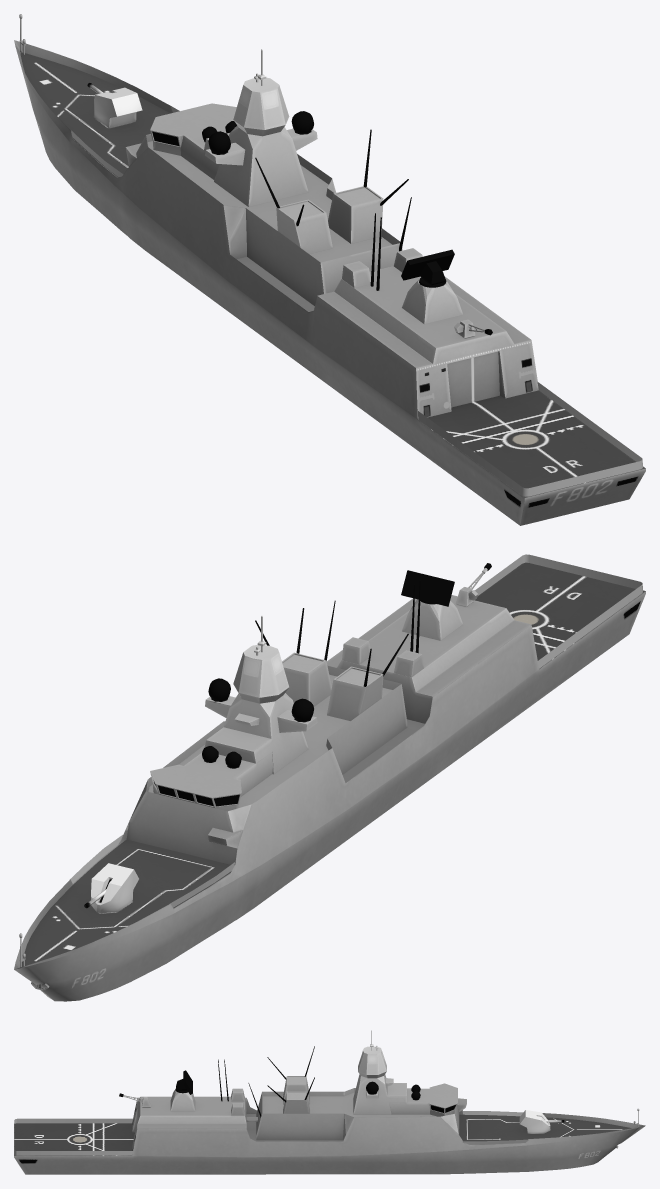
Rendered from VH_Fregat.fbx.
3 renders of one model, top to bottom at view 1: azimuth 30°, elevation 25°; view 2: azimuth 150°, elevation 25°; view 3: azimuth 270°, elevation 25°, orthographic. The views are drawn at different scales.
Visible parts, largest first — view 1: Ship, Fences; view 2: Ship, Fences; view 3: Ship, Fences.
Part boxes in pixels (left/top/right/bottom): Ship: left=14, top=14, right=645, bottom=525; Fences: left=71, top=106, right=642, bottom=496; Ship: left=14, top=562, right=645, bottom=1001; Fences: left=69, top=554, right=642, bottom=907; Ship: left=14, top=1030, right=645, bottom=1174; Fences: left=14, top=1111, right=528, bottom=1155.
Bounding box in the file's own units: 8.34 × 15.41 × 68.01.
